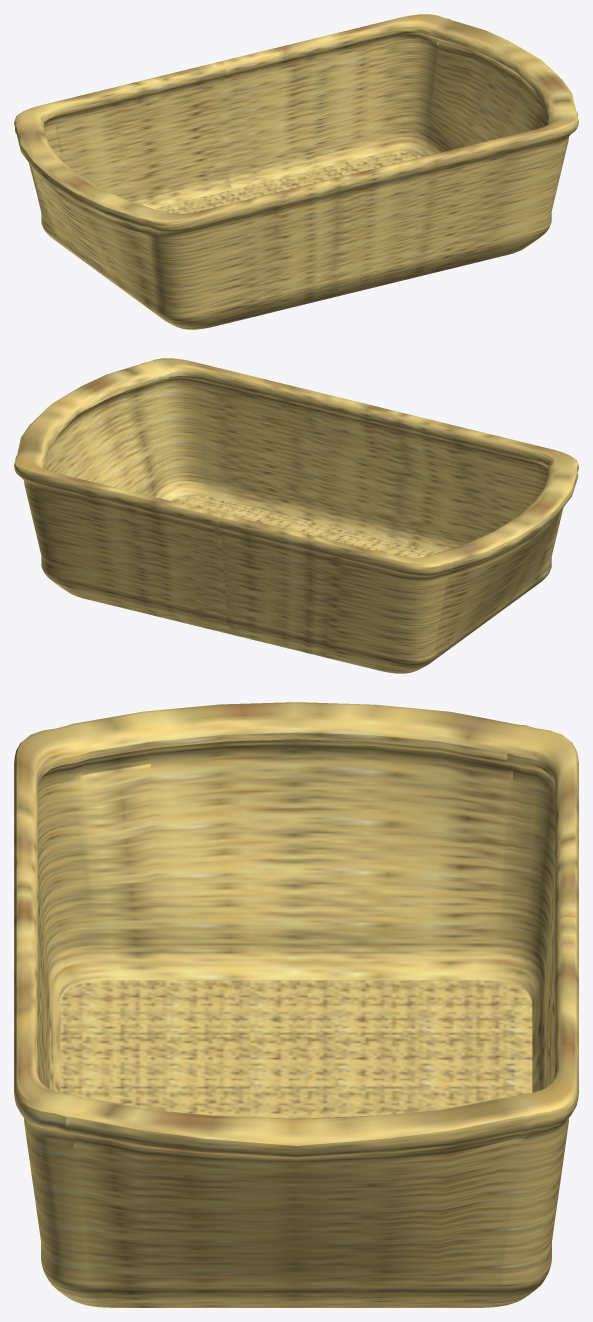
The model's file is Basket.fbx.
3 views of the same model, one above another, from view 1: azimuth 30°, elevation 25°; view 2: azimuth 150°, elevation 25°; view 3: azimuth 270°, elevation 25° (orthographic). The views are drawn at different scales.
Parts seen in each view (by area): view 1: Basket; view 2: Basket; view 3: Basket.
Part boxes in pixels (x1=…): Basket: x1=14, y1=14, x2=578, y2=329; Basket: x1=14, y1=358, x2=578, y2=673; Basket: x1=14, y1=702, x2=578, y2=1307.
Bounding box in the file's own units: 532 × 132 × 290.
